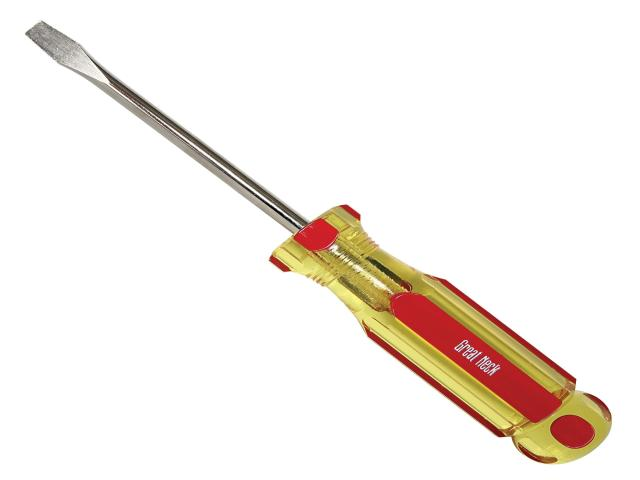Screwdriver: (26, 22, 611, 464)
